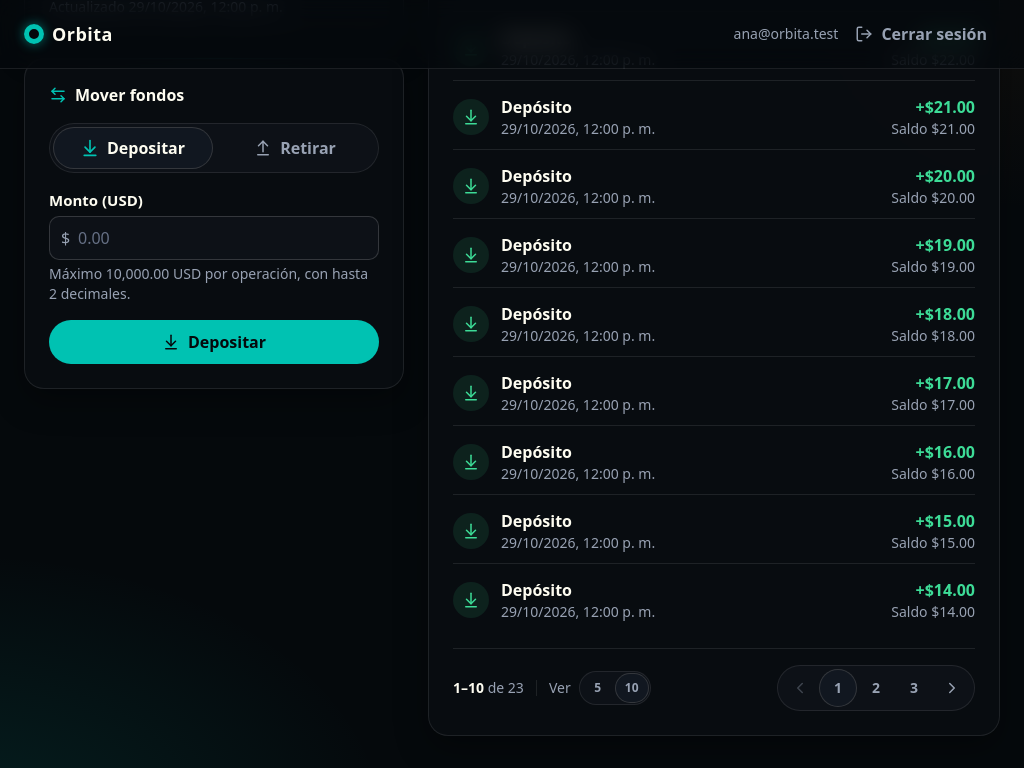
Test: balance screen states › navigates with page numbers, previous and next
(page scrolled)
Expected: the navigation bar named "Paginación de movimientos" shows "1–10 de 23", [453,648,975,711]
Expected: the button named "Página anterior" is disabled, [782,670,818,706]
Click the button named "Página 3": (914, 688) [896,670,932,706]
(page scrolled)
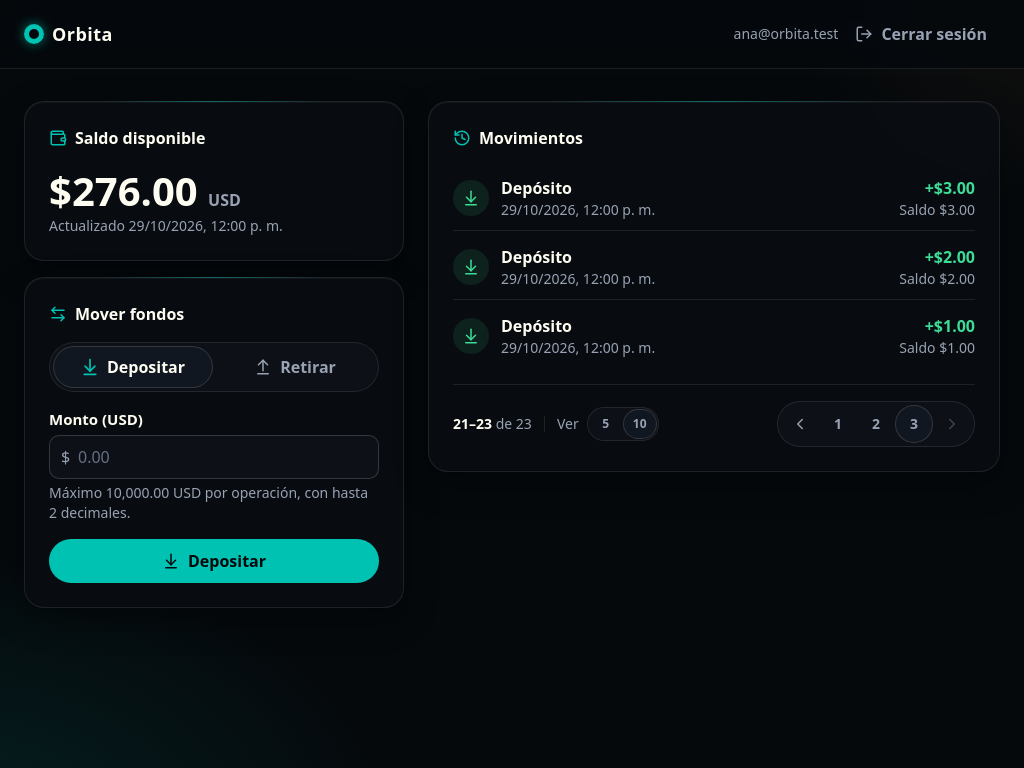
Now the text "+$3.00" is shown, box [925,177,975,199]
Now the navigation bar named "Paginación de movimientos" shows "21–23 de 23", box [453,384,975,447]
Now the button named "Página siguiente" is disabled, box [934,406,970,442]
Click the button named "Página anterior": (800, 424) [782,406,818,442]
(page scrolled)
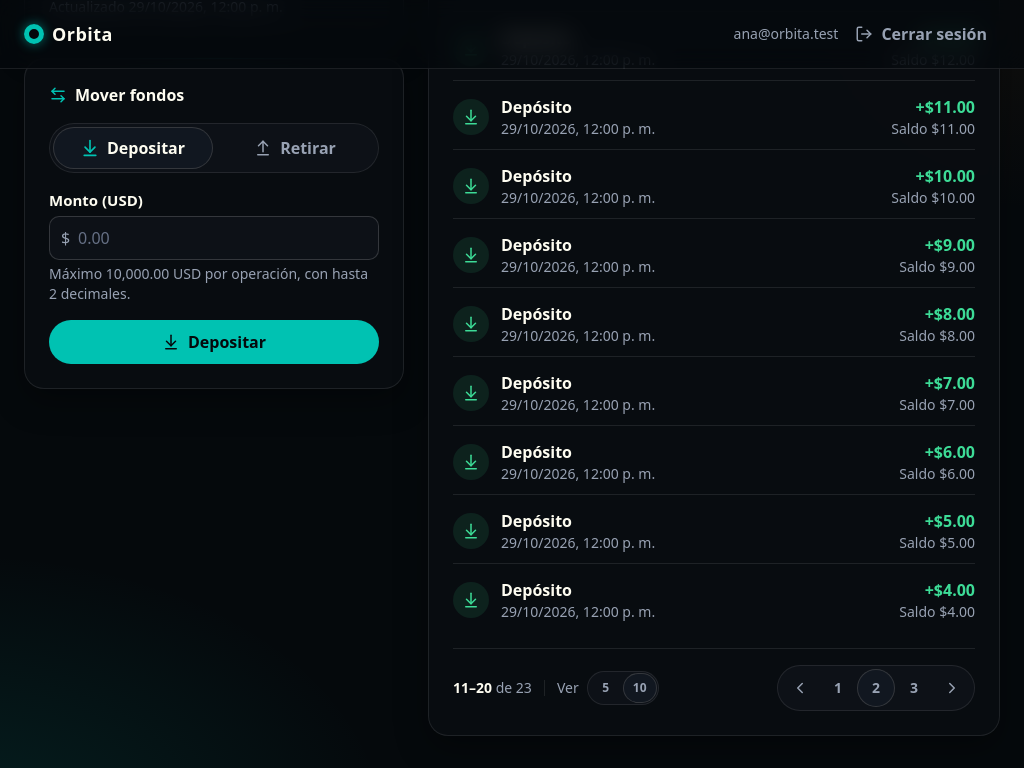
Now the button named "Página 2" is marked as current, box [858,670,894,706]
Click the button named "Página siguiente": (952, 688) [934,670,970,706]
(page scrolled)
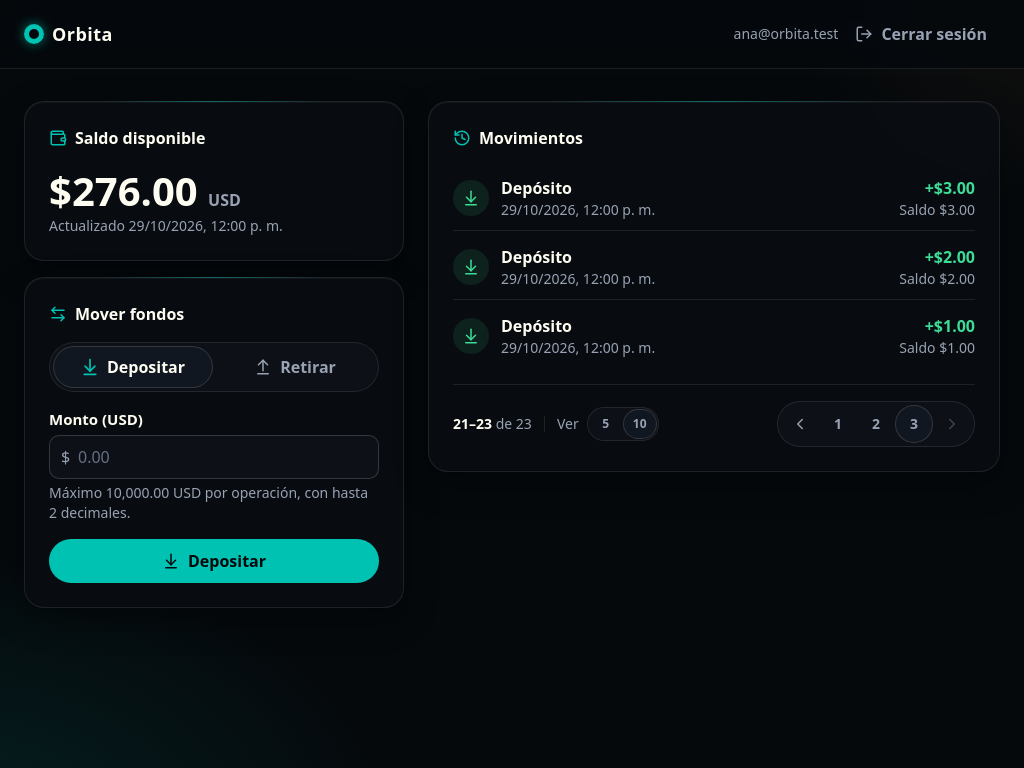
Now the text "+$3.00" is shown, box [925,177,975,199]
